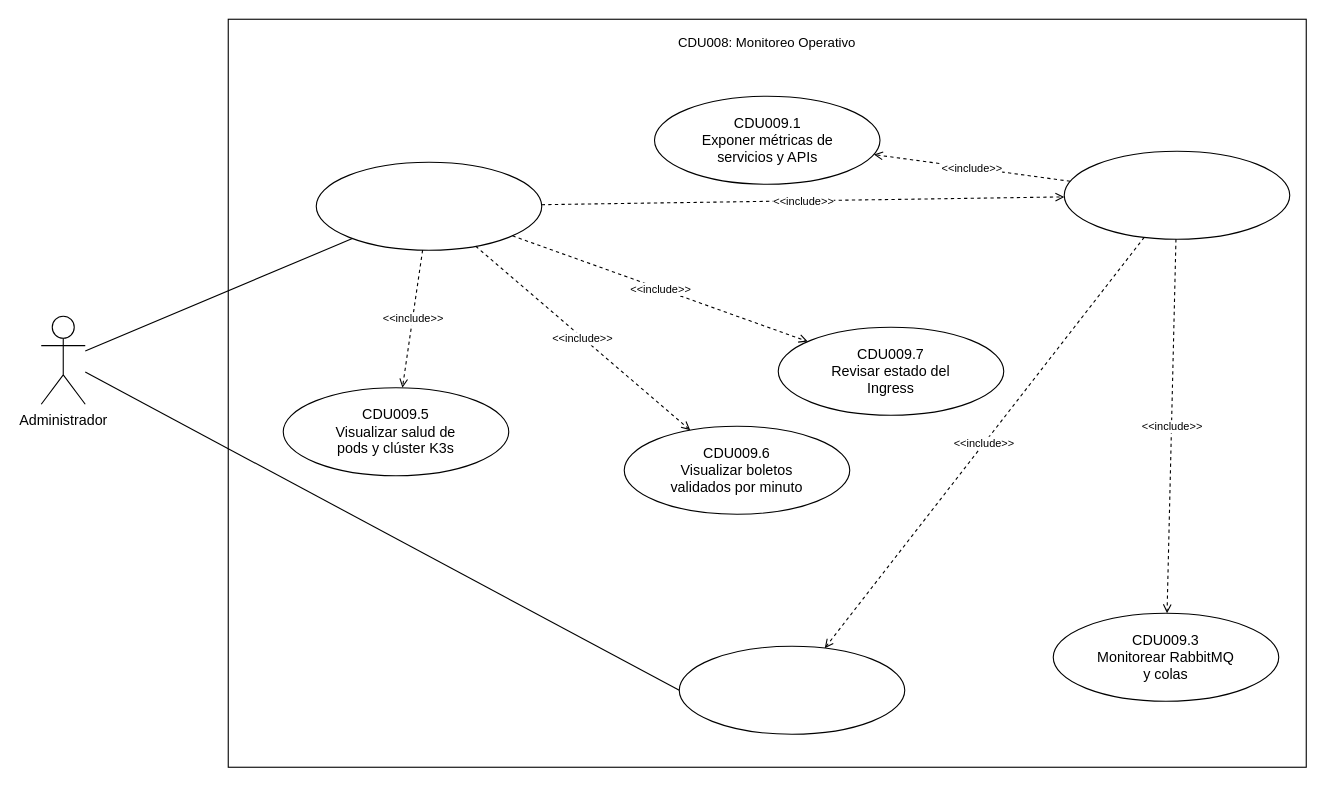
Some shapes in this 1326 by 787 pixel diagram are drawn without their labels. Here are the shapes that lost their labels. From the top down, the centre of each, then its label:
At (x=428, y=205): "CDU009.4 Consultar dashboards en Grafana".
At (x=1176, y=194): "CDU009.2 Recolectar métricas con Prometheus".
At (x=791, y=689): "CDU009.8 Configurar retención de métricas".
